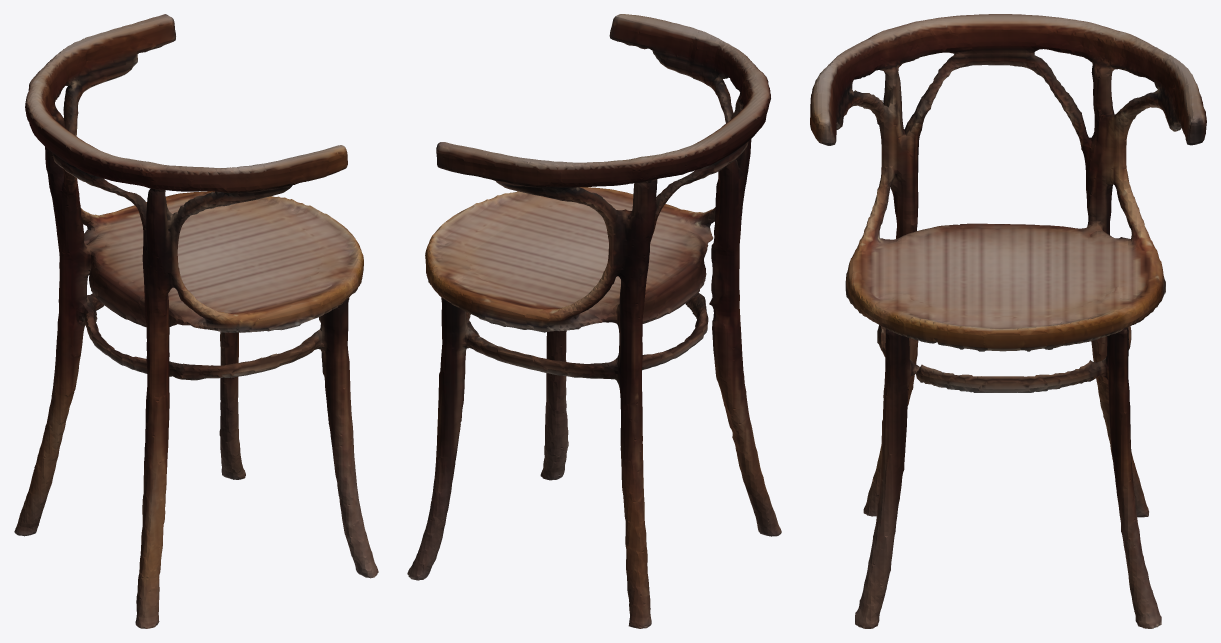
The model's file is chair.obj.
3 renders of one model, left to right at view 1: azimuth 30°, elevation 25°; view 2: azimuth 150°, elevation 25°; view 3: azimuth 270°, elevation 25°, orthographic. The views are drawn at different scales.
Bounding box in the file's own units: 1.32 × 1.97 × 1.47.
